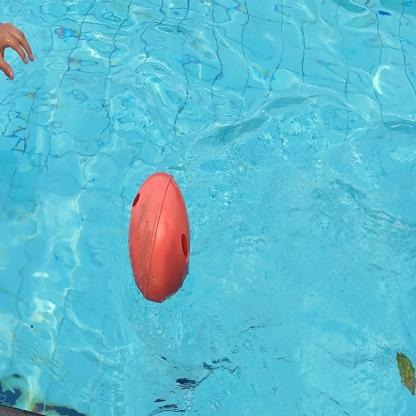red_buoy: (127, 169, 193, 309)
